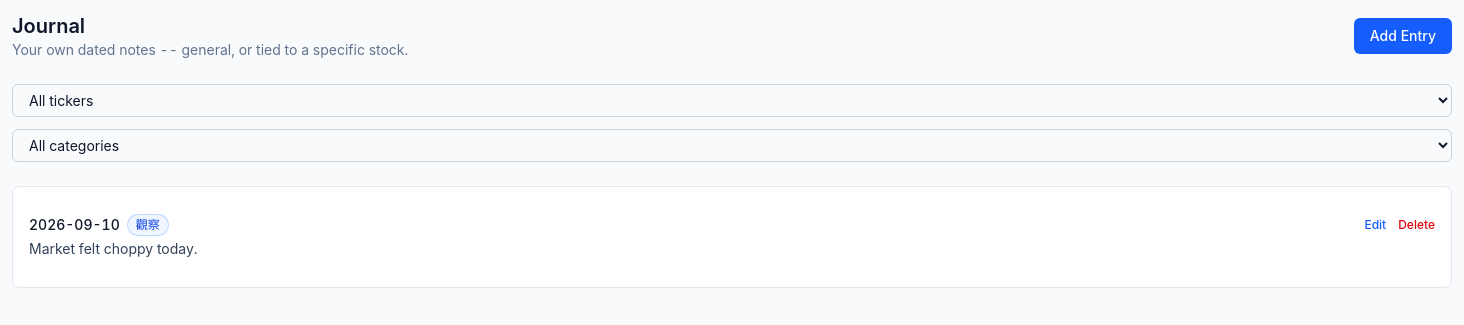
it: Journal page › surfaces a delete error inline instead of failing silently
Click the button "Delete": (1417, 225) [1398,217,1435,233]
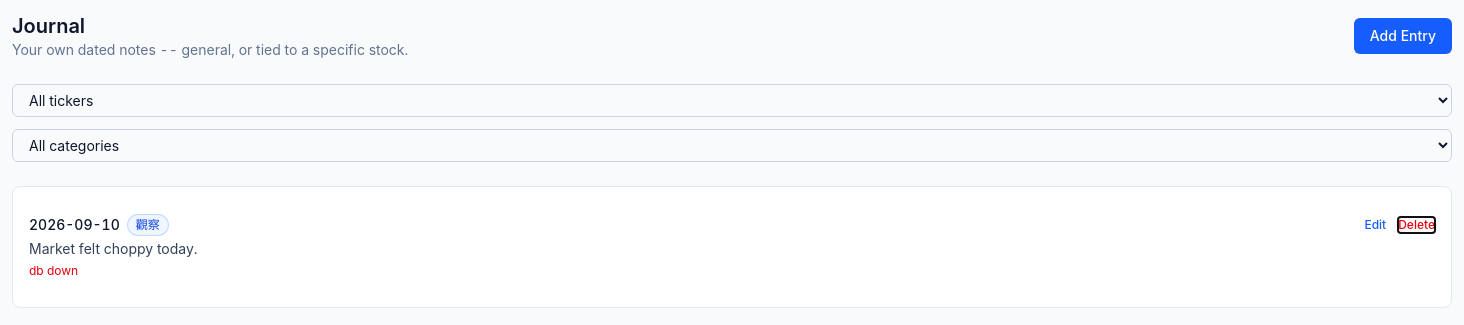
Result: the text "db down" is shown at [29,263,78,278]
